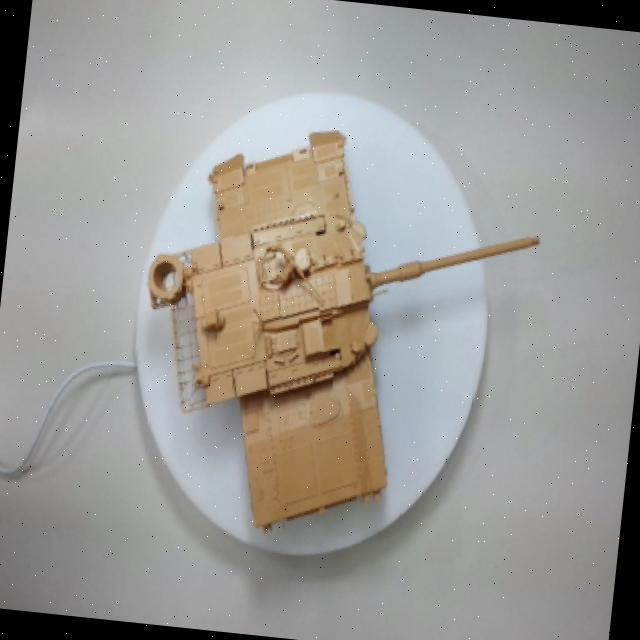korea tank: (125, 84, 590, 556)
